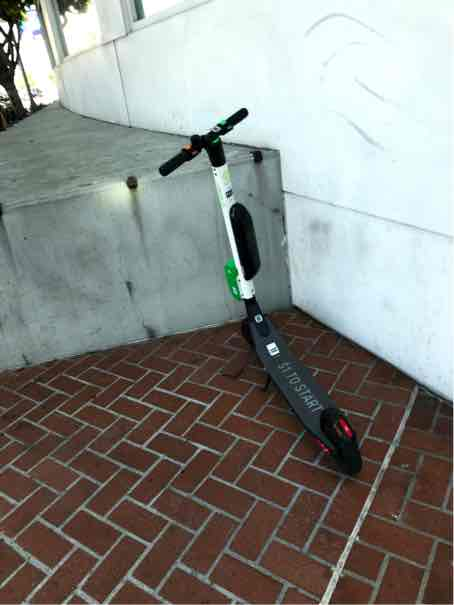scooter: (94, 151, 454, 377)
